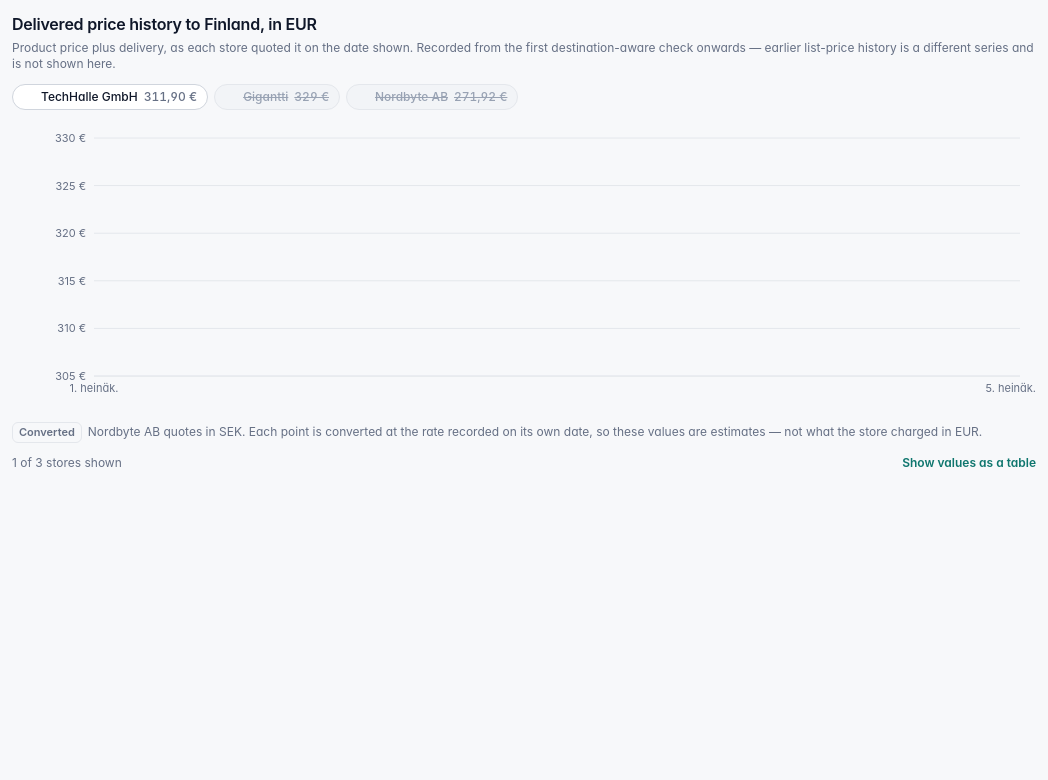
it: the values table › drops a hidden store’s column, so the table and the chart agree
Click the button "Show values as a table".
click(969, 463)  # box [902, 455, 1036, 471]
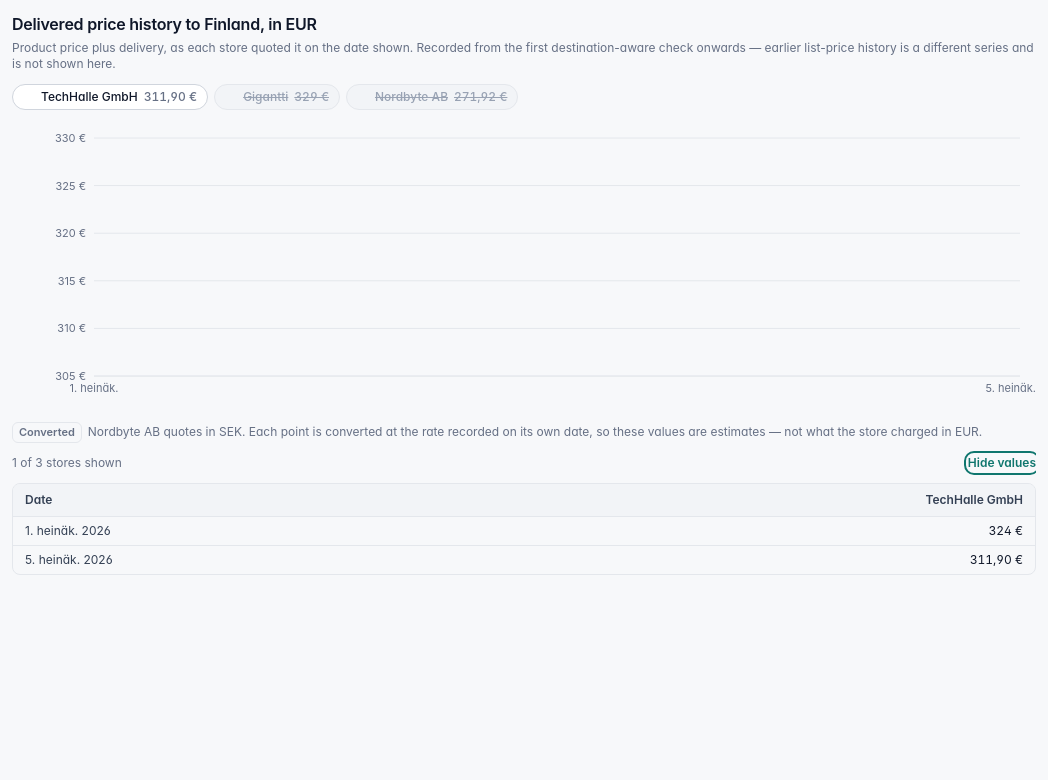
Expected: the column headings read "Date", "TechHalle GmbH", in this order, [13, 484, 502, 516]; [502, 484, 1035, 516]
